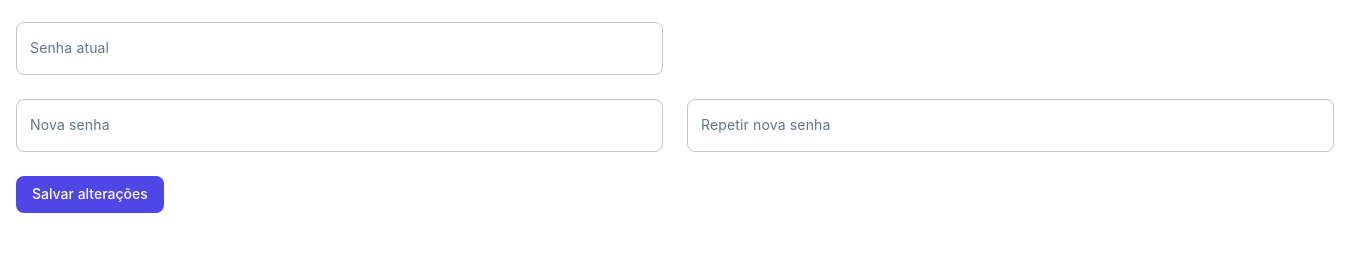
it: SecurityForm › bloqueia envio quando a nova senha tem menos de 8 caracteres
Type "senha-atual" into the password field labelled "Senha atual" at (340,49), box top-left (16, 22), bottom-right (663, 75)
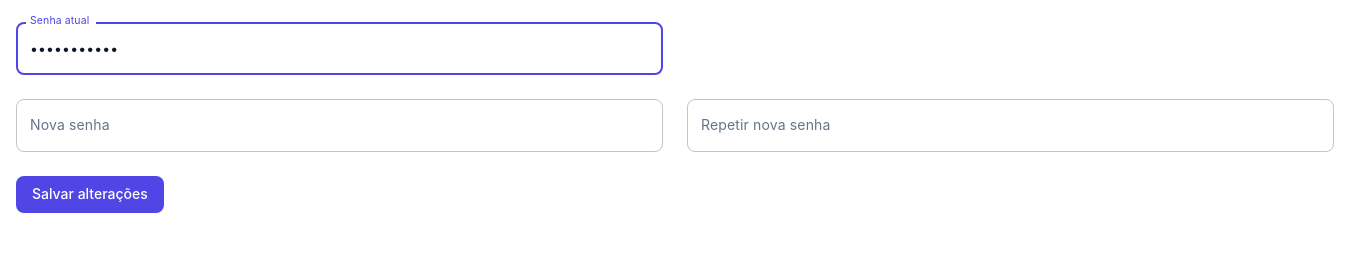
Type "curta" into the password field labelled "Nova senha" at (340,126), box top-left (16, 99), bottom-right (663, 152)
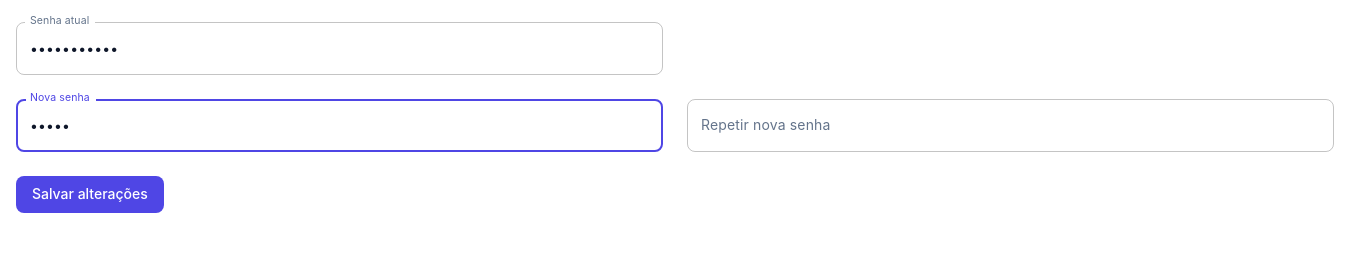
Type "curta" into the password field labelled "Repetir nova senha" at (1010,126), box top-left (687, 99), bottom-right (1334, 152)
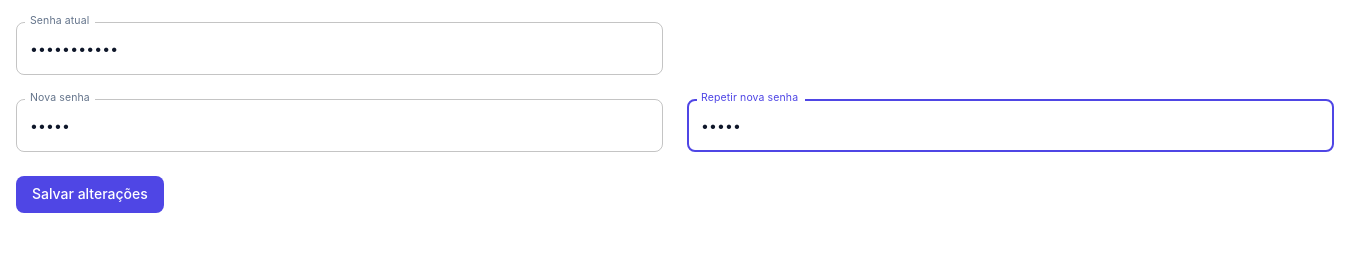
Click the button "Salvar alterações" at (90,195), box top-left (16, 176), bottom-right (164, 213)
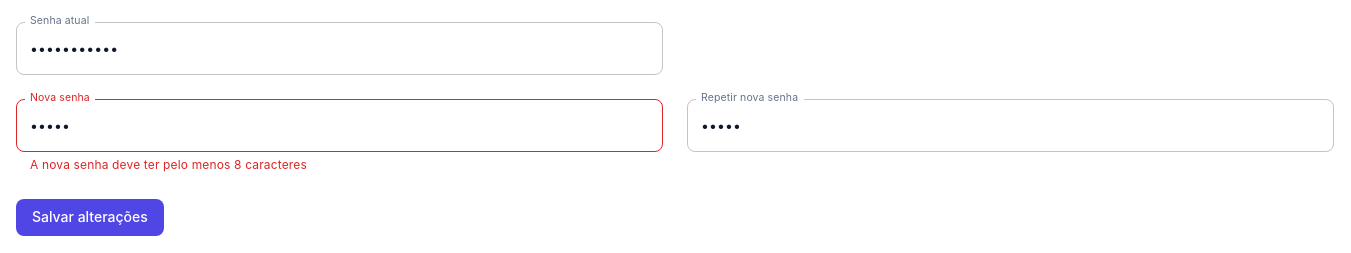
expect the text "A nova senha deve ter pelo menos 8 caracteres" is shown: met, box top-left (30, 157), bottom-right (307, 172)
